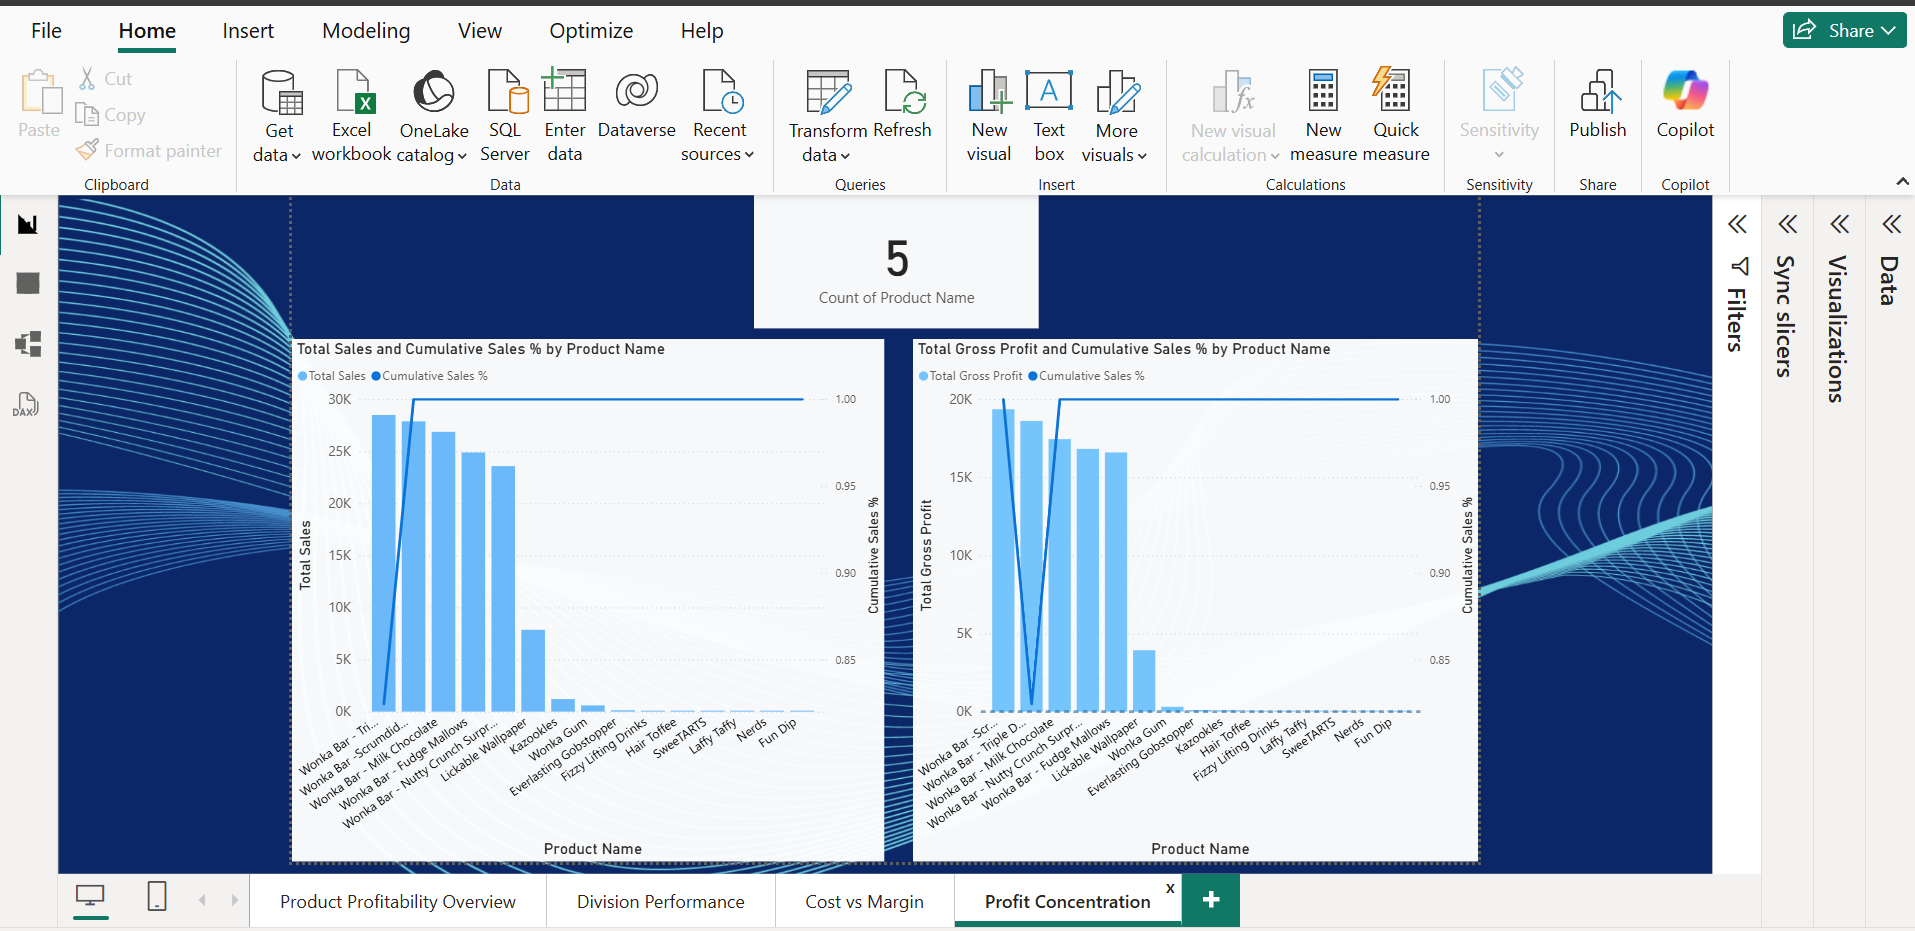

The page's visual inventory and layout, read from the dashboard file:
{"tool":"powerbi","page":{"name":"Profit Concentration","canvas":[1280,720],"ordinal":3},"visuals":[{"type":"lineStackedColumnComboChart","fields":{"Category":["Dim_Product.Product Name"],"Y":["_Measures.Total Sales"],"Y2":["_Measures.Cumulative Sales %"]},"box":[0,156,639.4,564.3],"z":0},{"type":"lineStackedColumnComboChart","fields":{"Category":["Dim_Product.Product Name"],"Y":["_Measures.Total Gross Profit"],"Y2":["_Measures.Cumulative Sales %"]},"box":[670.2,156,610.5,564.3],"z":2},{"type":"card","fields":{"Values":["Count(Dim_Product.Product Name)"]},"box":[502,11.3,304.4,132.8],"z":3}]}

Visuals, with their boxes on the page's 1280x720 design canvas (x1, y1, x2, y2). These are canvas units, not pixel positions in the 1915x931 screenshot, which may show the page scaled, cropped or inside an application window:
lineStackedColumnComboChart - Dim_Product.Product Name x _Measures.Total Sales: (x1=0, y1=156, x2=639, y2=720)
lineStackedColumnComboChart - Dim_Product.Product Name x _Measures.Total Gross Profit: (x1=670, y1=156, x2=1281, y2=720)
card - Count(Dim_Product.Product Name): (x1=502, y1=11, x2=806, y2=144)
